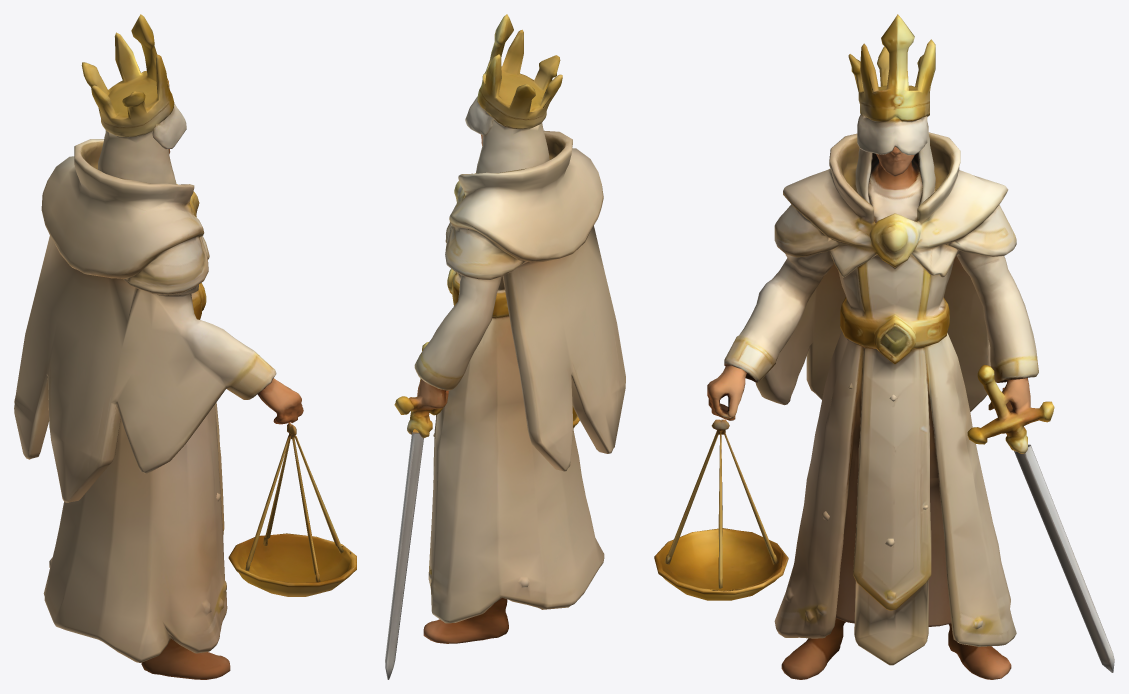
3 views of the same model, side by side, from view 1: azimuth 30°, elevation 25°; view 2: azimuth 150°, elevation 25°; view 3: azimuth 270°, elevation 25° (orthographic). The views are drawn at different scales.
Parts seen in each view (by area): view 1: tripo_node_fdc6ff9d-dd4b-411c-81a1-326810851e33; view 2: tripo_node_fdc6ff9d-dd4b-411c-81a1-326810851e33; view 3: tripo_node_fdc6ff9d-dd4b-411c-81a1-326810851e33.
Part boxes in pixels (left/top/right/bottom): tripo_node_fdc6ff9d-dd4b-411c-81a1-326810851e33: left=14, top=14, right=356, bottom=679; tripo_node_fdc6ff9d-dd4b-411c-81a1-326810851e33: left=385, top=14, right=625, bottom=679; tripo_node_fdc6ff9d-dd4b-411c-81a1-326810851e33: left=654, top=14, right=1114, bottom=679.
Size of the model in its own units: 0.3581 by 1 by 0.6438.
Materials: 1 (1 with a texture image).
